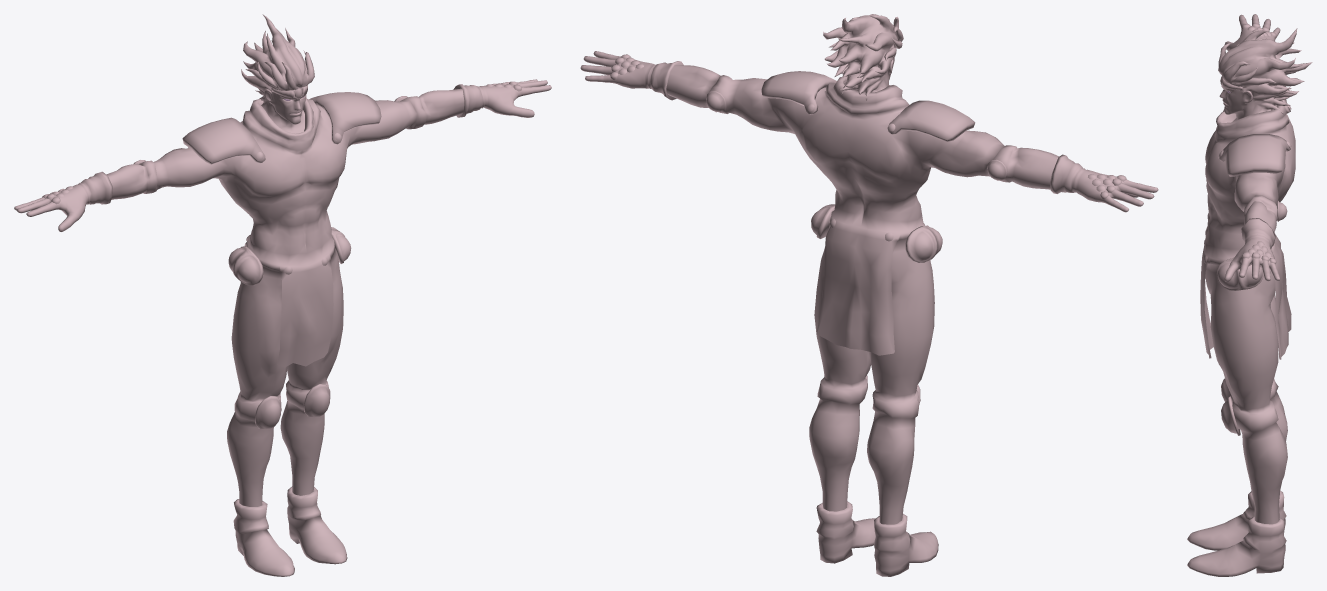
File: starplatinum.dae
3 renders of one model, left to right at view 1: azimuth 30°, elevation 25°; view 2: azimuth 150°, elevation 25°; view 3: azimuth 270°, elevation 25°, orthographic. The views are drawn at different scales.
Visible parts, largest first — view 1: sp_starP1; view 2: sp_starP1; view 3: sp_starP1.
Boxes of the visible parts, bbox=[...] form: sp_starP1: bbox=[14, 14, 551, 576]; sp_starP1: bbox=[580, 14, 1158, 576]; sp_starP1: bbox=[1187, 14, 1312, 576].
Bounding box in the file's own units: 80.55 × 16.28 × 75.34.
